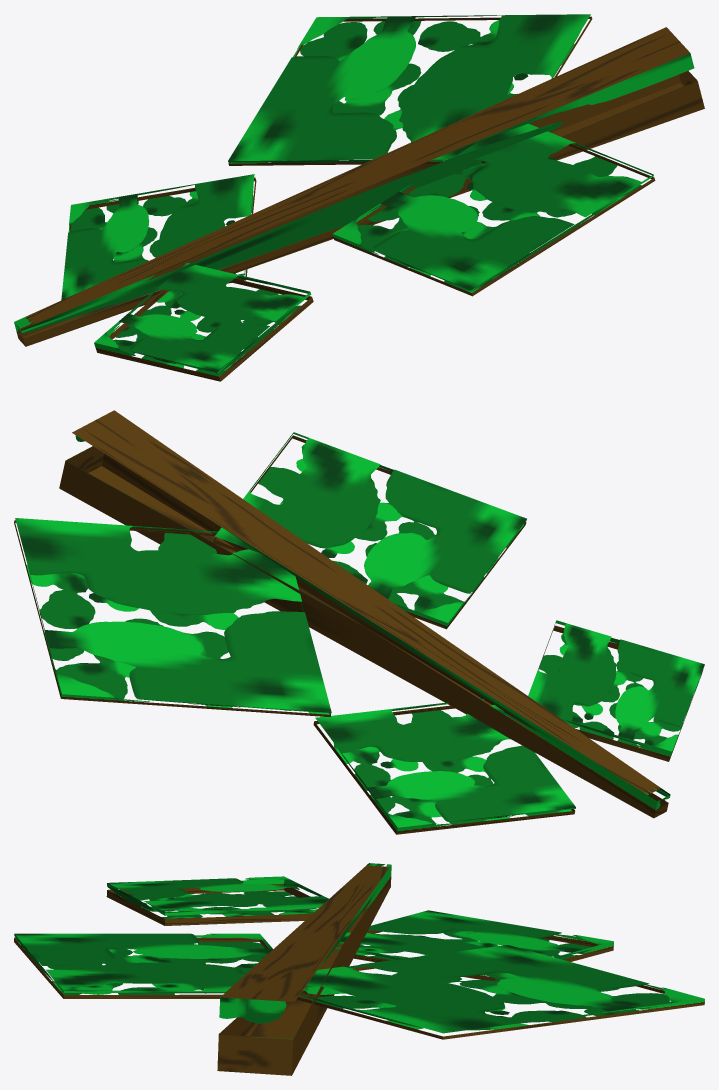
File: ObjectFirTreeNeedles2.obj
The picture shows the model from 3 angles, top to bottom: view 1: azimuth 30°, elevation 25°; view 2: azimuth 150°, elevation 25°; view 3: azimuth 270°, elevation 25°; orthographic projection. The views are drawn at different scales.
Parts seen in each view (by area): view 1: Cube, Cube.002, Cube.004, Cube.001, Cube.003; view 2: Cube.002, Cube, Cube.004, Cube.003, Cube.001; view 3: Cube.002, Cube, Cube.004, Cube.001, Cube.003.
Part boxes in pixels (box(x1,y1,x2,y2)): Cube: box(14, 27, 704, 346); Cube.002: box(228, 14, 592, 165); Cube.004: box(332, 123, 655, 296); Cube.001: box(94, 263, 313, 381); Cube.003: box(61, 174, 256, 300); Cube.002: box(14, 518, 331, 717); Cube: box(59, 410, 670, 818); Cube.004: box(213, 432, 526, 629); Cube.003: box(313, 698, 575, 834); Cube.001: box(528, 620, 704, 761); Cube.002: box(296, 945, 704, 1039); Cube: box(217, 863, 391, 1075); Cube.004: box(14, 933, 308, 998); Cube.001: box(106, 876, 328, 925); Cube.003: box(335, 910, 613, 980).
Size of the model in its own units: 4.94 by 1.47 by 4.14.
